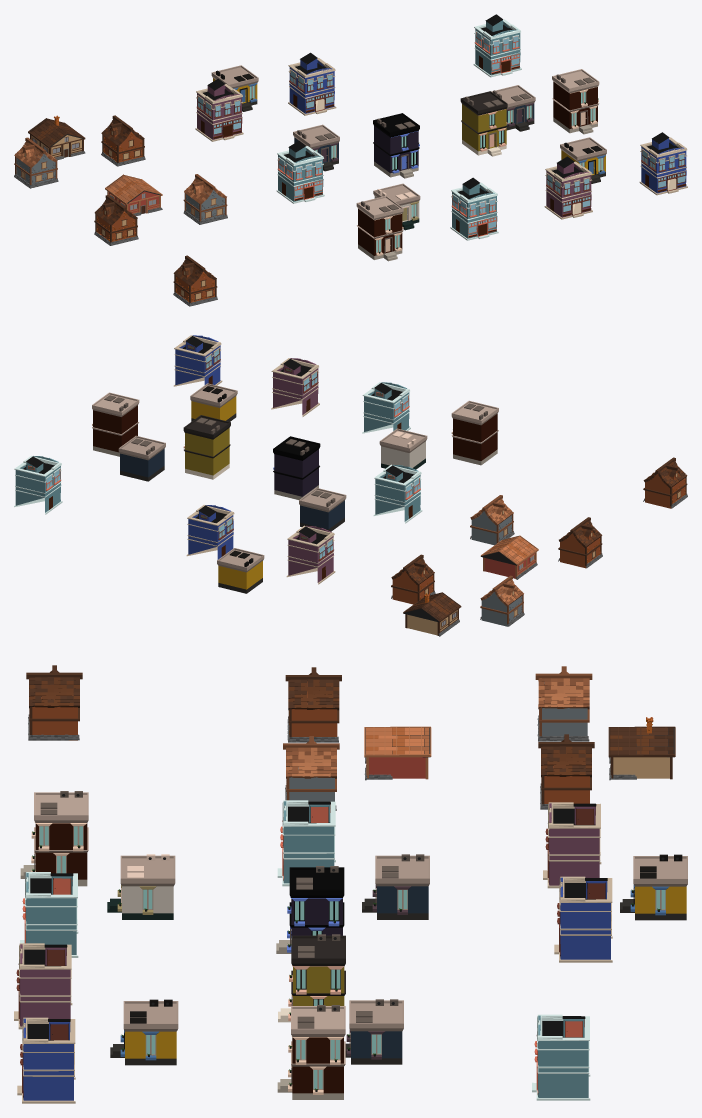
3 renders of one model, top to bottom at view 1: azimuth 30°, elevation 25°; view 2: azimuth 150°, elevation 25°; view 3: azimuth 270°, elevation 25°, orthographic. The views are drawn at different scales.
Visible parts, largest first — view 1: littleHouse2.003, littleHouse2.001, littleHouse2.002, littleHouse2, littleHouse3.002, littleHouse3.004, littleHouse3.005, littleHouse3.003, littleHouse3, littleHouse3.006, littleHouse3.001, Cube.014 (+11 smaller); view 2: littleHouse2.001, littleHouse2, littleHouse2.002, littleHouse2.003, littleHouse3, littleHouse3.001, littleHouse3.003, littleHouse3.005, littleHouse3.004, littleHouse3.002, littleHouse3.006, Cube.052 (+11 smaller); view 3: littleHouse2.003, littleHouse2, littleHouse3.003, littleHouse3.002, littleHouse3.004, littleHouse3, littleHouse3.005, littleHouse2.001, littleHouse2.002, littleHouse3.006, littleHouse3.001, littleHouse.004 (+11 smaller).
Boxes of the visible parts, box(x1,y1,x2,y2) form: littleHouse2.003: box(552, 69, 599, 134); littleHouse2.001: box(460, 91, 507, 156); littleHouse2.002: box(373, 113, 419, 178); littleHouse2: box(356, 195, 403, 261); littleHouse3.002: box(288, 52, 336, 115); littleHouse3.004: box(639, 132, 687, 195); littleHouse3.005: box(544, 156, 592, 219); littleHouse3.003: box(473, 14, 521, 77); littleHouse3: box(195, 79, 243, 141); littleHouse3.006: box(450, 177, 498, 240); littleHouse3.001: box(276, 140, 324, 203); Cube.014: box(94, 195, 138, 245); littleHouse2.001: box(183, 415, 230, 479); littleHouse2: box(451, 400, 498, 465); littleHouse2.002: box(273, 436, 320, 499); littleHouse2.003: box(92, 392, 139, 456); littleHouse3: box(286, 525, 335, 584); littleHouse3.001: box(373, 464, 422, 523); littleHouse3.003: box(14, 455, 62, 514); littleHouse3.005: box(271, 358, 319, 416); littleHouse3.004: box(173, 335, 222, 386); littleHouse3.002: box(186, 505, 234, 559); littleHouse3.006: box(362, 382, 410, 433); Cube.052: box(403, 592, 461, 636); littleHouse2.003: box(277, 1005, 345, 1099); littleHouse2: box(20, 791, 88, 886); littleHouse3.003: box(532, 1014, 590, 1100); littleHouse3.002: box(554, 876, 612, 962); littleHouse3.004: box(17, 1017, 75, 1103); littleHouse3: box(543, 802, 601, 888); littleHouse3.005: box(14, 943, 72, 1029); littleHouse2.001: box(278, 934, 345, 1022); littleHouse2.002: box(276, 866, 344, 953); littleHouse3.006: box(20, 872, 78, 957); littleHouse3.001: box(277, 800, 335, 886); littleHouse.004: box(110, 999, 178, 1065).
Size of the model in its own units: 8952 by 813 by 6640.
